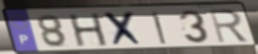3: (177, 9, 210, 45)
8: (35, 14, 68, 49)
H: (67, 12, 111, 48)
I: (150, 11, 169, 46)
R: (207, 8, 251, 44)
X: (102, 10, 146, 48)
